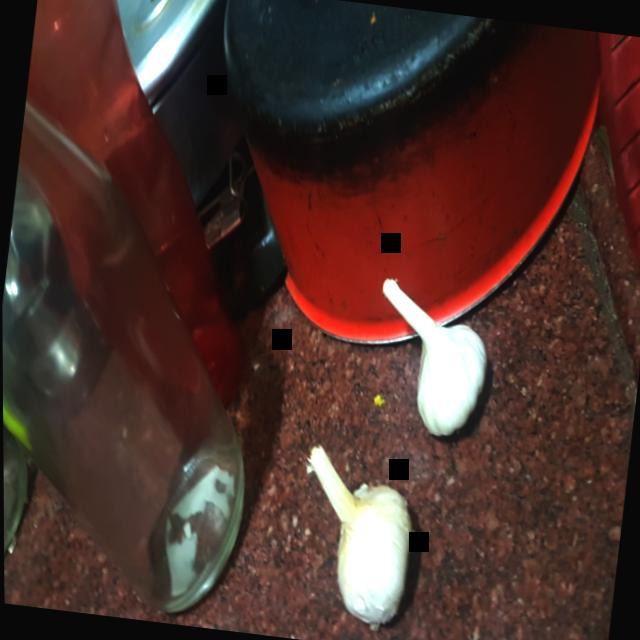garlic: (273, 439, 448, 640), (346, 268, 523, 450)
